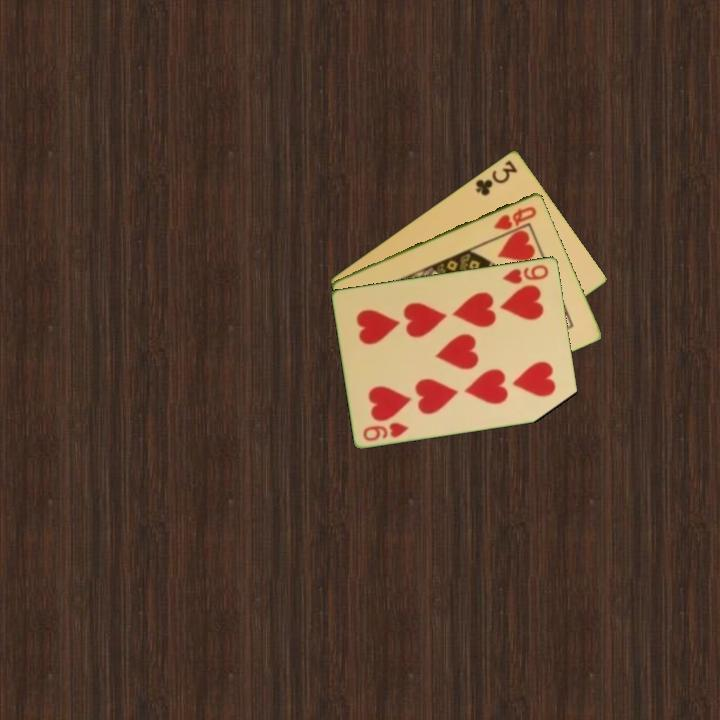3c: (471, 156, 520, 198)
9h: (499, 261, 551, 287), (359, 418, 411, 444)
Qh: (490, 202, 540, 233)
